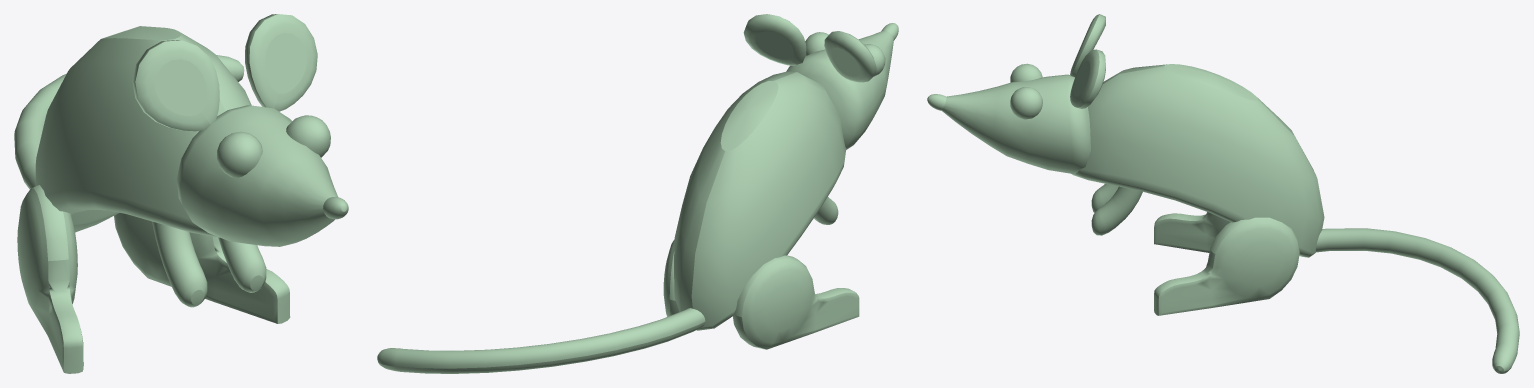
The model's file is NPC_Field Mouse.fbx.
The picture shows the model from 3 angles, left to right: view 1: azimuth 30°, elevation 25°; view 2: azimuth 150°, elevation 25°; view 3: azimuth 270°, elevation 25°; orthographic projection. The views are drawn at different scales.
Visible parts, largest first — view 1: Field Mouse; view 2: Field Mouse; view 3: Field Mouse.
Boxes of the visible parts, x1,y1,x2,y2 form: Field Mouse: [14, 14, 348, 373]; Field Mouse: [377, 14, 898, 373]; Field Mouse: [927, 14, 1519, 373].
Bounding box in the file's own units: 15.07 × 11.85 × 26.08.
